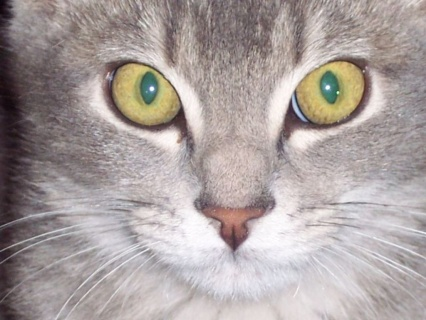Cat: (0, 0, 425, 318)
